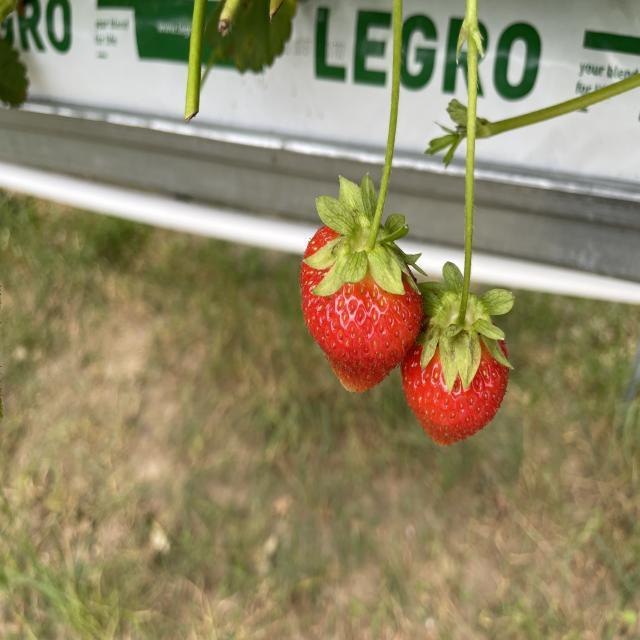stem: (420, 0, 511, 384), (307, 0, 415, 295)
strawberryR: (300, 261, 419, 391), (403, 347, 507, 443), (303, 224, 337, 258)
